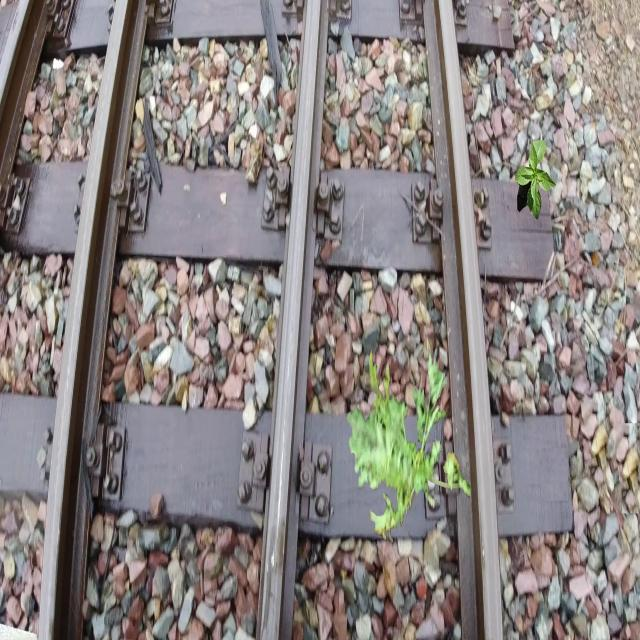Plant: (347, 348, 472, 544), (515, 140, 557, 220)
